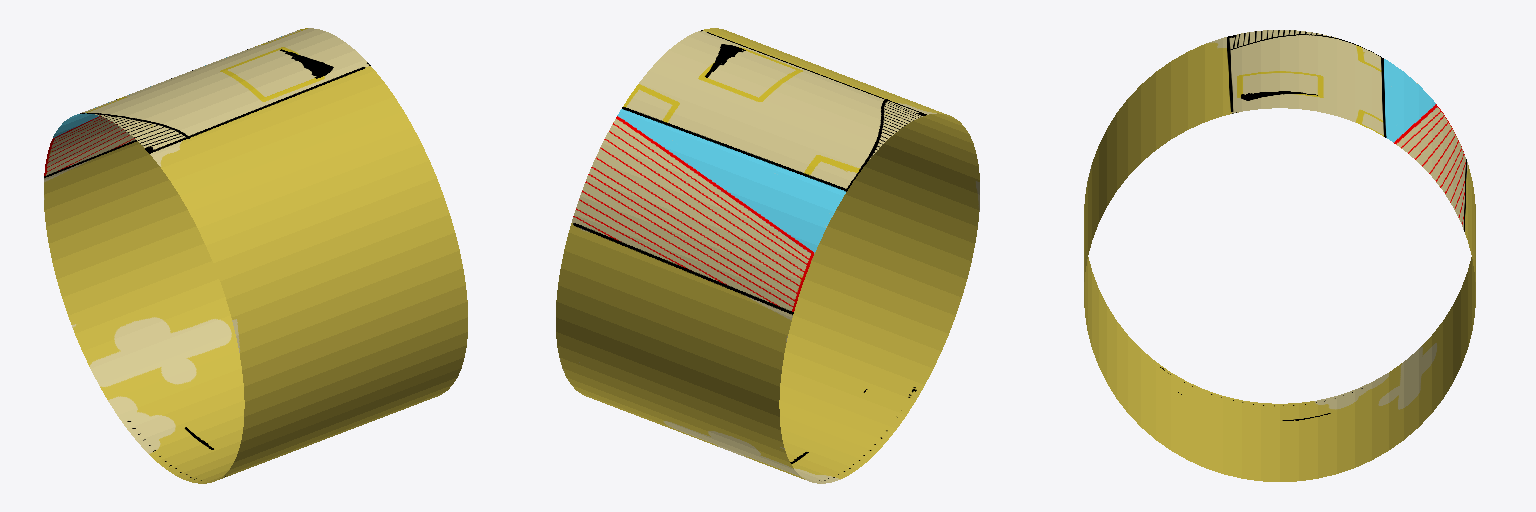
3 views of the same model, side by side, from view 1: azimuth 30°, elevation 25°; view 2: azimuth 150°, elevation 25°; view 3: azimuth 270°, elevation 25° (orthographic).
Visible parts, largest first — view 1: drumsetV4_BigDrumBody_Cylinder.012; view 2: drumsetV4_BigDrumBody_Cylinder.012; view 3: drumsetV4_BigDrumBody_Cylinder.012.
Part boxes in pixels (x1,y1,x2,y2): drumsetV4_BigDrumBody_Cylinder.012: (44,28,467,483); drumsetV4_BigDrumBody_Cylinder.012: (556,28,979,483); drumsetV4_BigDrumBody_Cylinder.012: (1084,30,1475,481).
Bounding box in the file's own units: 1.55 × 2.12 × 1.97.
Materials: 1 (1 with a texture image).